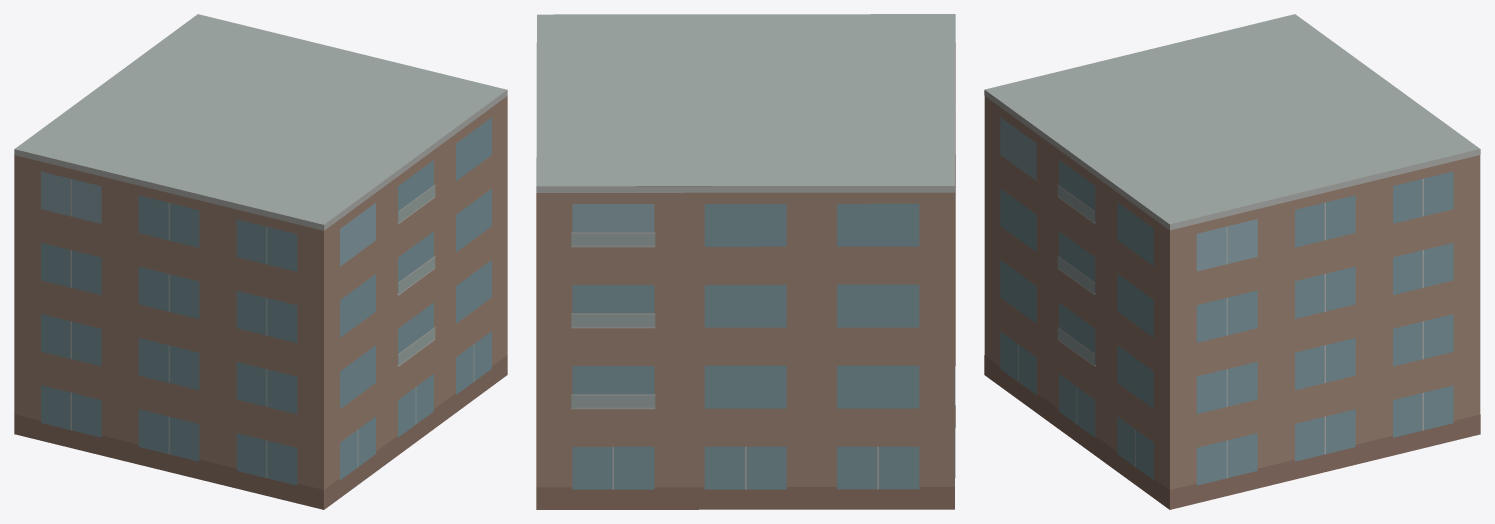
Rendered from survey-upis-32620334.glb.
3 views of the same model, side by side, from view 1: azimuth 30°, elevation 25°; view 2: azimuth 150°, elevation 25°; view 3: azimuth 270°, elevation 25° (orthographic). The views are drawn at different scales.
Visible parts, largest first — view 1: survey-upis-32620334.tmp; view 2: survey-upis-32620334.tmp; view 3: survey-upis-32620334.tmp.
Part boxes in pixels (left/top/right/bottom): survey-upis-32620334.tmp: left=14, top=14, right=507, bottom=509; survey-upis-32620334.tmp: left=536, top=14, right=955, bottom=509; survey-upis-32620334.tmp: left=984, top=14, right=1480, bottom=509.
Size of the model in its own units: 18.52 by 11.7 by 18.44.
